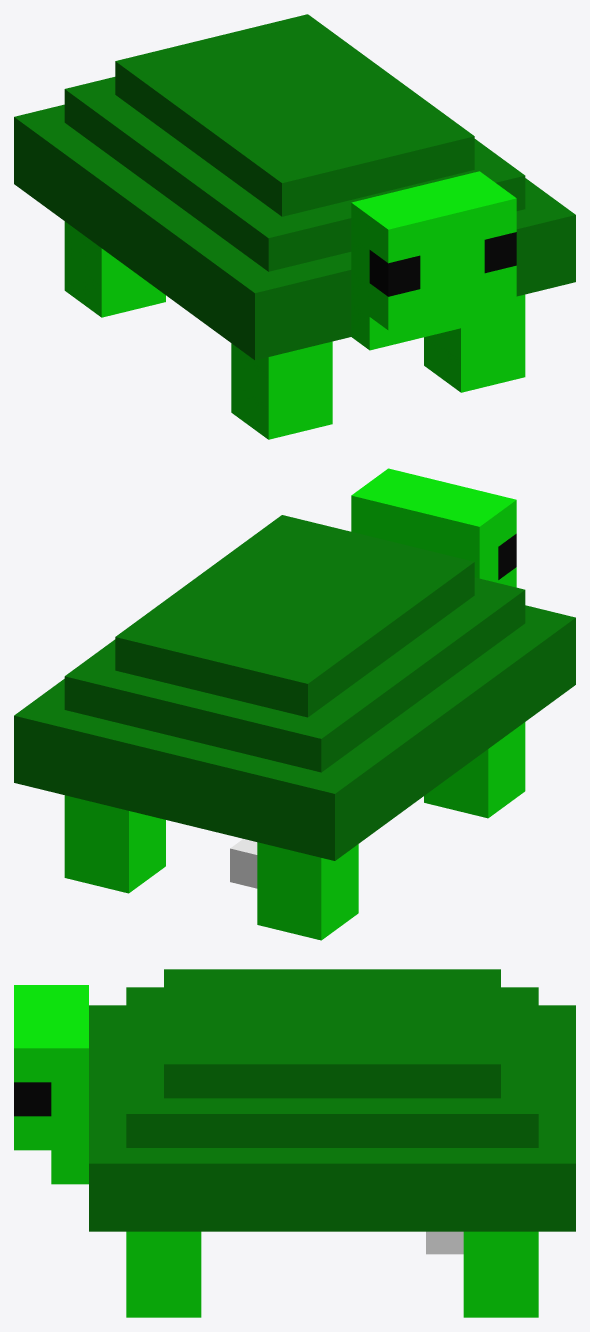
File: tortuga.obj
The picture shows the model from 3 angles, top to bottom: view 1: azimuth 30°, elevation 25°; view 2: azimuth 150°, elevation 25°; view 3: azimuth 270°, elevation 25°; orthographic projection.
Visible parts, largest first — view 1: mesh; view 2: mesh; view 3: mesh.
Part boxes in pixels (<box>): mesh: <box>14,14,575,439</box>; mesh: <box>14,468,575,940</box>; mesh: <box>14,969,575,1317</box>.
Size of the model in its own units: 1 by 0.7 by 1.5.
